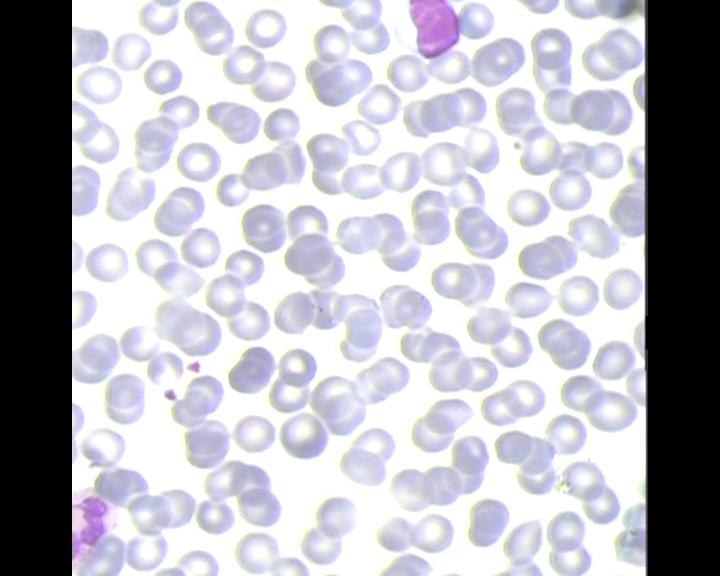lymp: (388, 0, 459, 59)
